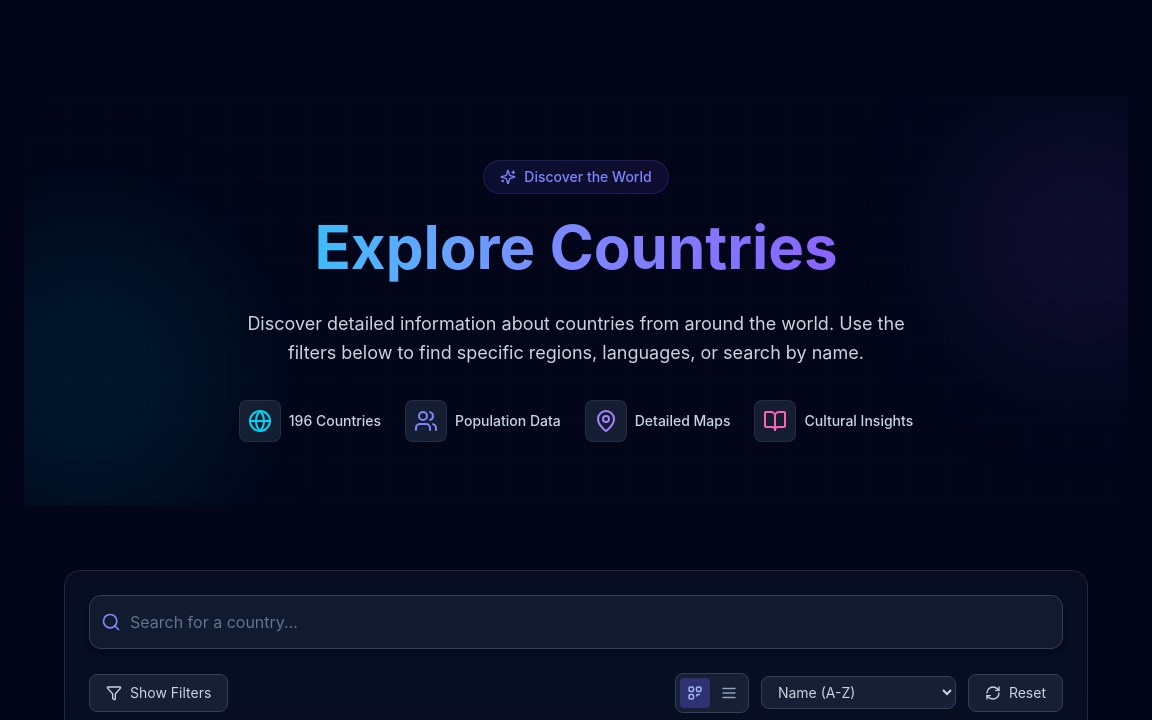
HomePage Integration Tests › handles 404 response when no search results found
The image size is (1152, 720).
Note: Enter a search term that will return 404
In the field with placeholder "Search for a country...": [576, 622] box x1=89 y1=594 x2=1063 y2=648, type "xyz123"
(page scrolled)
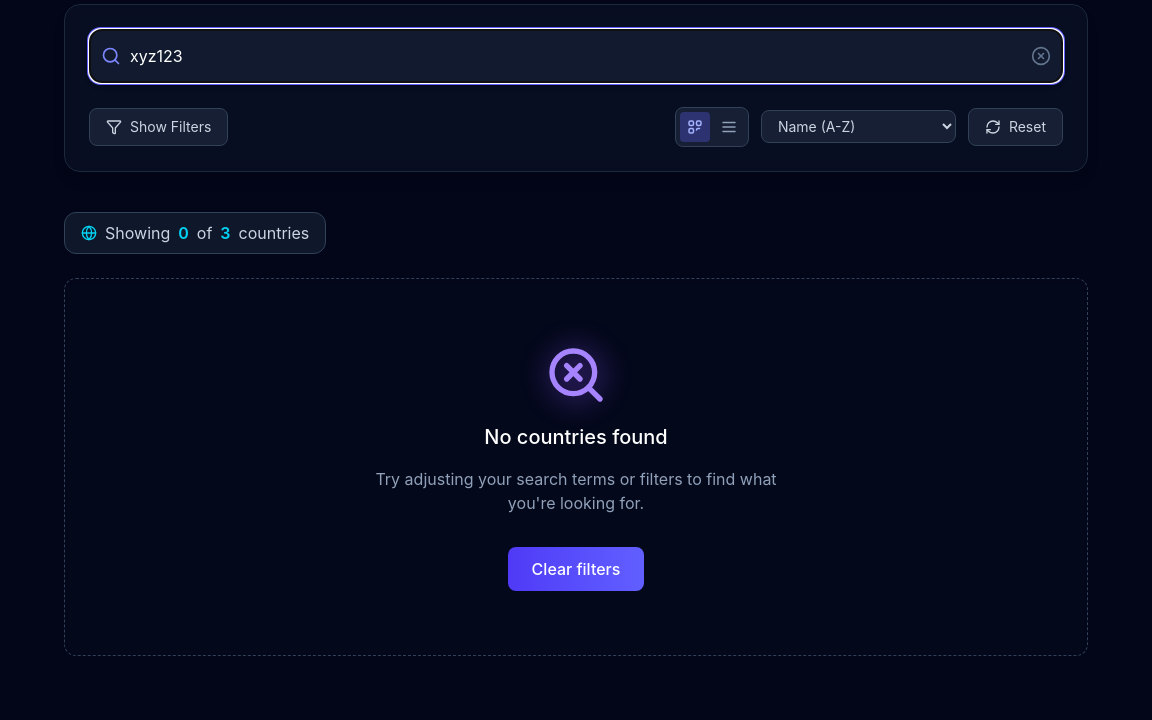
Now the heading "No countries found" is shown, box x1=484 y1=424 x2=668 y2=448
